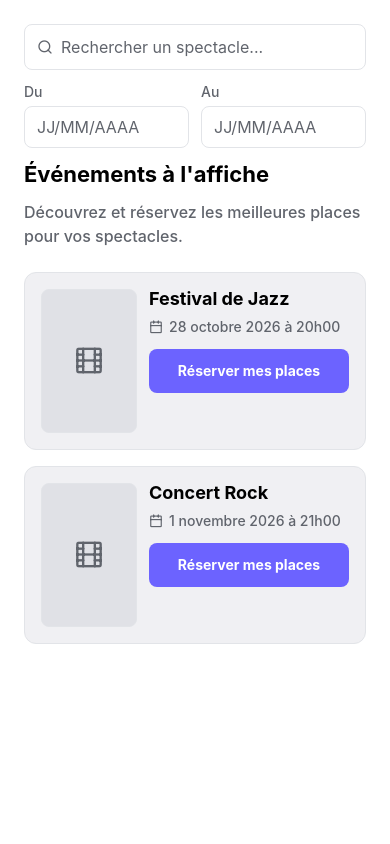
Test: EventsListScreen › filtre la liste selon le texte recherché
Type "jazz" into the field with placeholder "Rechercher un spectacle...". click: (207, 47)
box: [61,25,353,69]
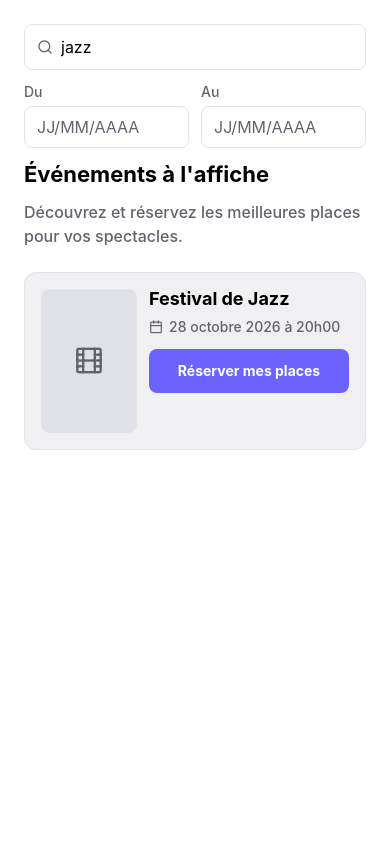
Expected: the text "Festival de Jazz" is shown, [149,288,290,309]
Now the text "Concert Rock" is gone
